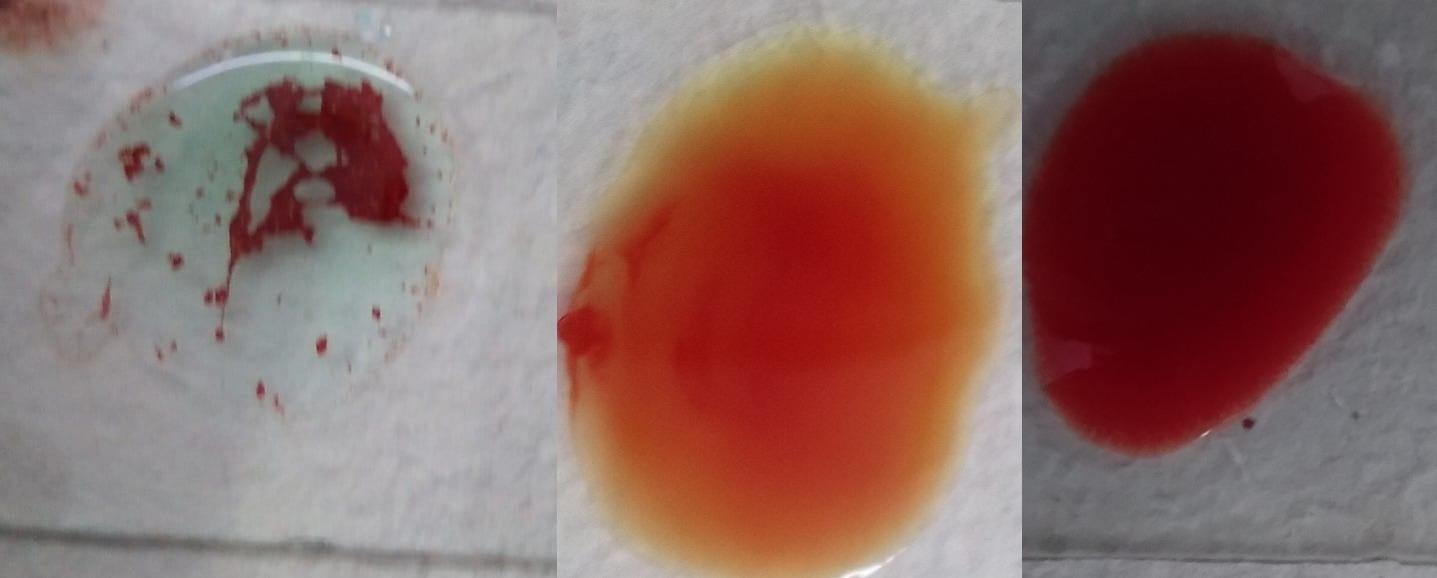A: (113, 28, 442, 412)
